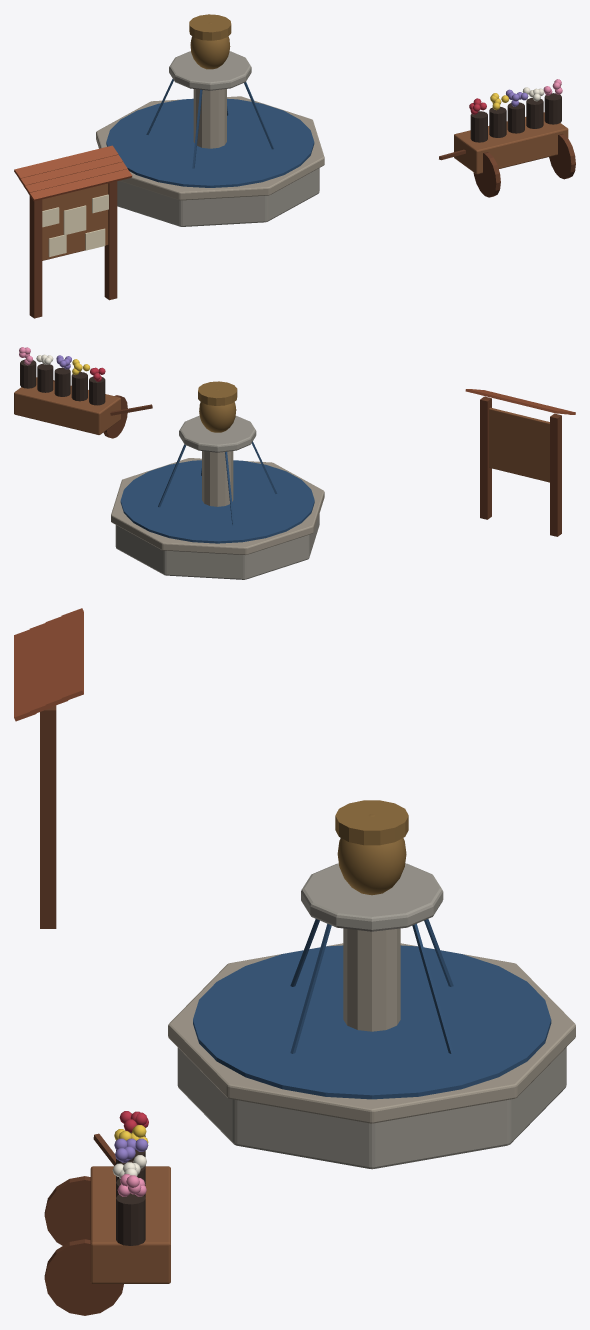
File: plaza.glb
The picture shows the model from 3 angles, top to bottom: view 1: azimuth 30°, elevation 25°; view 2: azimuth 150°, elevation 25°; view 3: azimuth 270°, elevation 25°; orthographic projection. The views are drawn at different scales.
Parts seen in each view (by area): view 1: agua, pilon, pilon_borde, carro, tablon, taza, columna, tablon_poste, tablon_poste.001, tablon_tejadillo_3, bellota, tablon_tejadillo_0 (+11 smaller); view 2: agua, pilon, tablon, pilon_borde, carro, taza, columna, tablon_poste, tablon_poste.001, bellota, cupula_bellota, cubo.003 (+6 smaller); view 3: agua, pilon, pilon_borde, carro, taza, columna, tablon_poste.001, rueda.001, bellota, cupula_bellota, rueda, tablon_tejadillo_3 (+4 smaller).
Boxes of the visible parts, x1=… form: agua: x1=106, y1=98, x2=314, y2=187; pilon: x1=117, y1=168, x2=319, y2=226; pilon_borde: x1=96, y1=96, x2=324, y2=200; carro: x1=454, y1=112, x2=568, y2=174; tablon: x1=42, y1=183, x2=108, y2=260; taza: x1=169, y1=51, x2=251, y2=90; columna: x1=193, y1=89, x2=226, y2=148; tablon_poste: x1=29, y1=196, x2=42, y2=318; tablon_poste.001: x1=104, y1=181, x2=117, y2=300; tablon_tejadillo_3: x1=14, y1=145, x2=118, y2=178; bellota: x1=190, y1=22, x2=230, y2=69; tablon_tejadillo_0: x1=28, y1=169, x2=132, y2=201; agua: x1=120, y1=460, x2=314, y2=543; pilon: x1=115, y1=514, x2=319, y2=579; tablon: x1=489, y1=407, x2=549, y2=482; pilon_borde: x1=111, y1=458, x2=324, y2=554; carro: x1=14, y1=377, x2=120, y2=434; taza: x1=179, y1=415, x2=256, y2=452; columna: x1=202, y1=451, x2=233, y2=506; tablon_poste: x1=550, y1=413, x2=561, y2=536; tablon_poste.001: x1=480, y1=396, x2=491, y2=519; bellota: x1=199, y1=389, x2=236, y2=432; cupula_bellota: x1=198, y1=381, x2=237, y2=405; cubo.003: x1=37, y1=363, x2=53, y2=392; agua: x1=193, y1=945, x2=551, y2=1099; pilon: x1=177, y1=1047, x2=566, y2=1169; pilon_borde: x1=168, y1=943, x2=575, y2=1123; carro: x1=90, y1=1166, x2=170, y2=1283; taza: x1=301, y1=863, x2=443, y2=931; columna: x1=343, y1=928, x2=400, y2=1031; tablon_poste.001: x1=40, y1=705, x2=56, y2=928; rueda.001: x1=44, y1=1239, x2=123, y2=1315; bellota: x1=337, y1=814, x2=406, y2=895; cupula_bellota: x1=335, y1=800, x2=408, y2=845; rueda: x1=44, y1=1176, x2=90, y2=1245; tablon_tejadillo_3: x1=61, y1=608, x2=83, y2=701.
Bounding box in the file's own units: 9.73 × 2.63 × 4.89.
